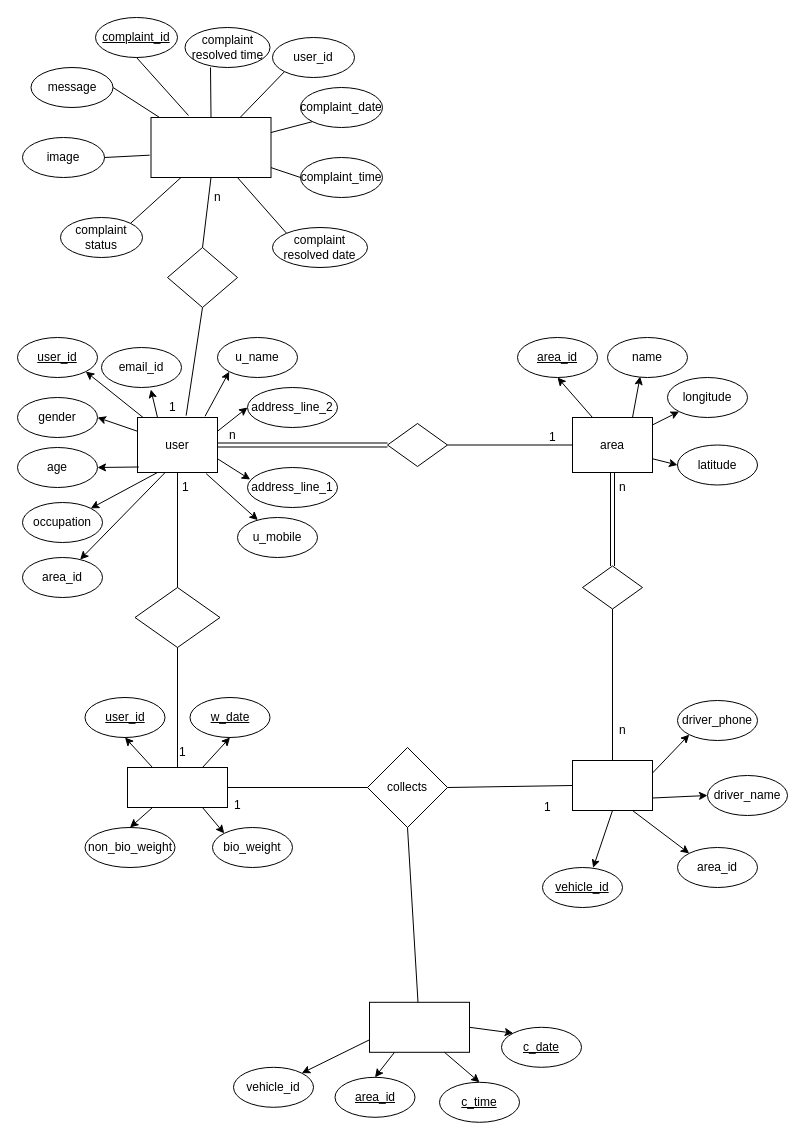
Image size: 805x1140. Some labels were removed from this diagram. The centre of each missing label's shape, as x and y in pixels:
"complaint" goes at [210,147].
"generates wastes" goes at [177,617].
"has a" goes at [612,587].
"registers" goes at [202,277].
"resides" goes at [417,444].
"vehicle" goes at [612,785].
"waste_collection" goes at [419,1026].
"waste_produced" goes at [177,787].
